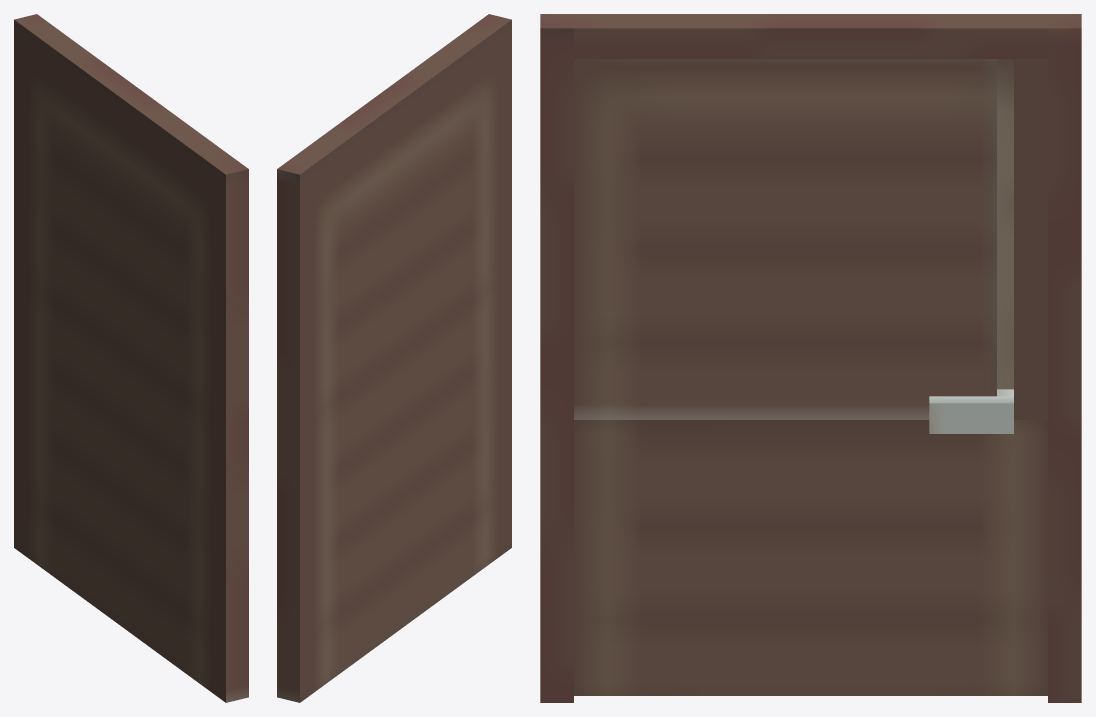
Rendered from DoorBrown_03.fbx.
3 renders of one model, left to right at view 1: azimuth 30°, elevation 25°; view 2: azimuth 150°, elevation 25°; view 3: azimuth 270°, elevation 25°, orthographic. The views are drawn at different scales.
Visible parts, largest first — view 1: DoorBrown_03; view 2: DoorBrown_03; view 3: DoorBrown_03.
Boxes of the visible parts, x1,y1,x2,y2 form: DoorBrown_03: [14, 14, 248, 702]; DoorBrown_03: [277, 14, 511, 702]; DoorBrown_03: [540, 14, 1081, 702].
Bounding box in the file's own units: 15 × 160 × 220.
1 material, 1 textured.
